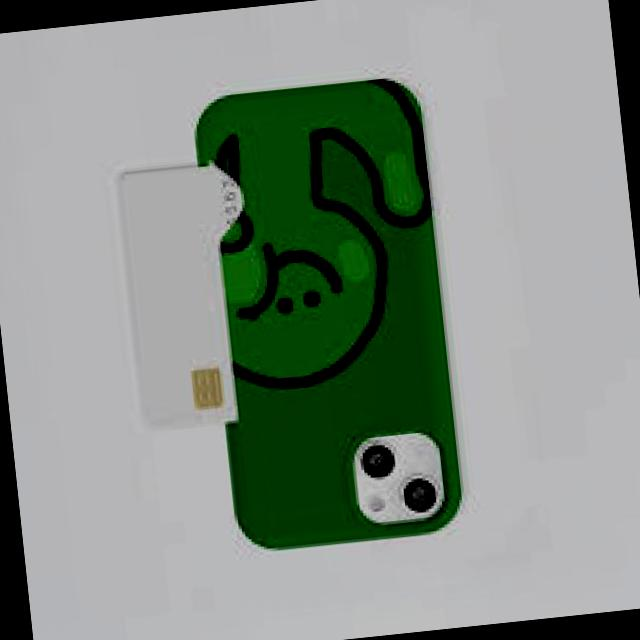lens_back: (354, 439, 400, 484), (398, 474, 442, 516)
phone: (179, 67, 472, 561)
